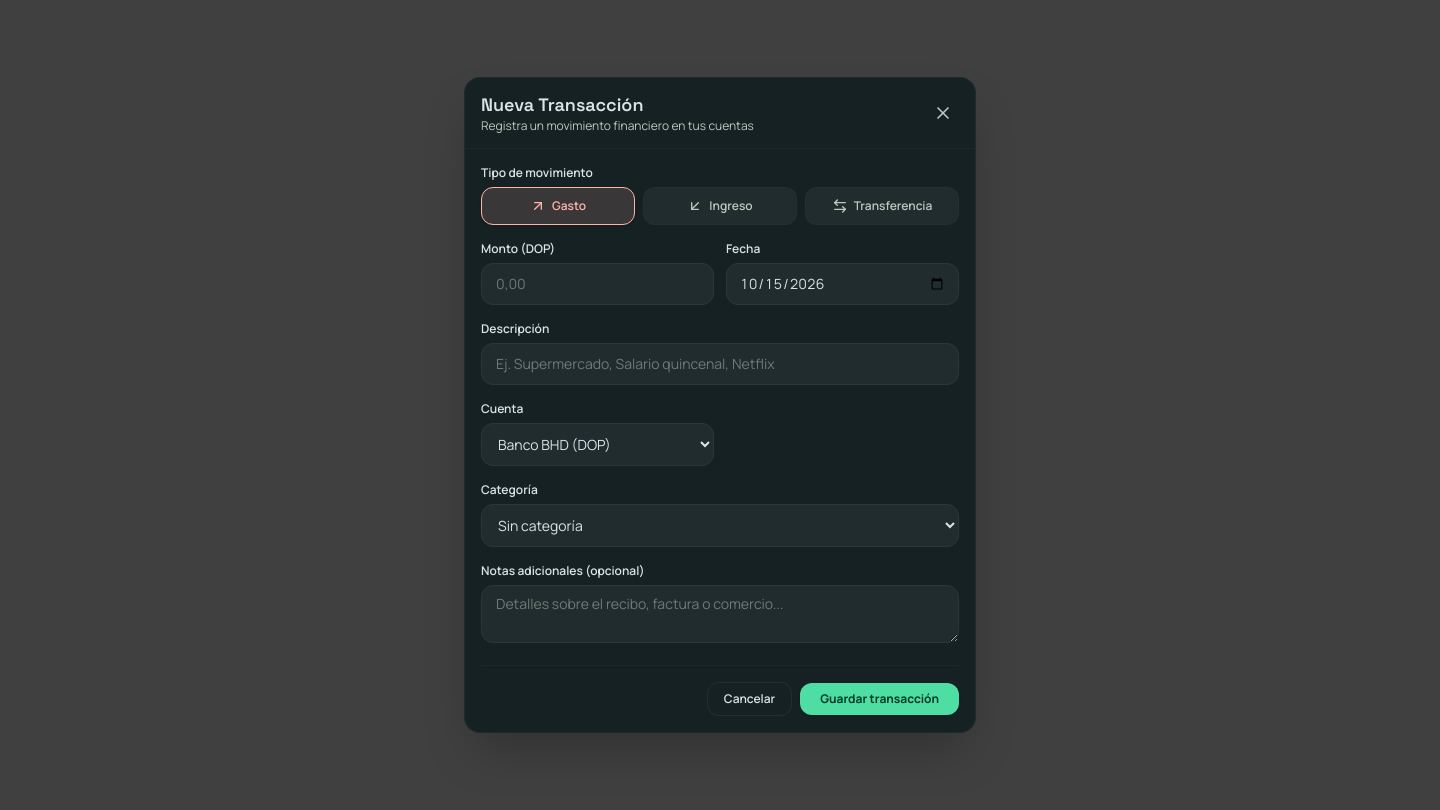
TransactionFormModal › validates that transfer origin and destination are different
The image size is (1440, 810).
Select "transfer" in the dropdown labelled "Tipo de movimiento" at (537, 172), box [481,164,593,181]
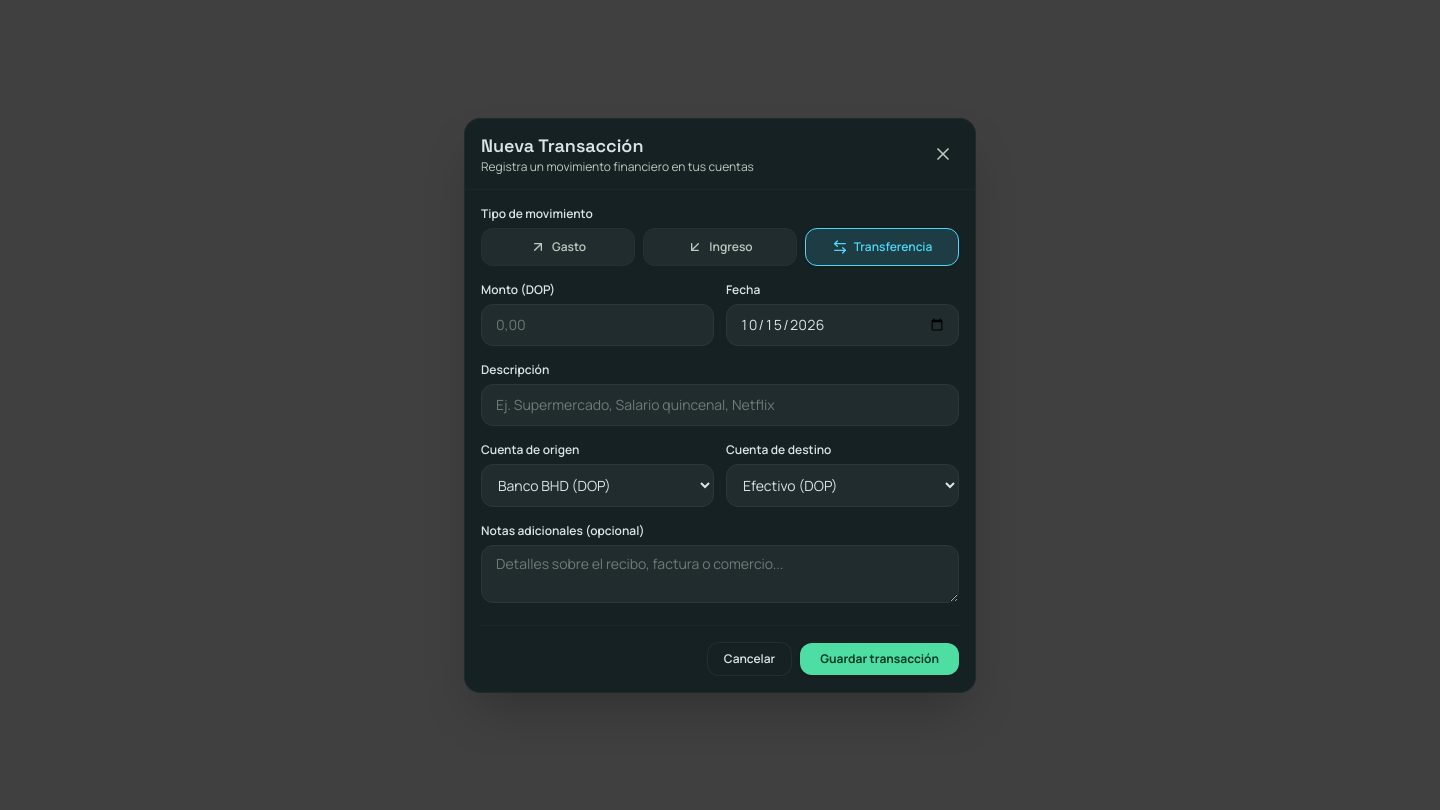
# Origin and destination set to same account
Select "Banco BHD (DOP)" in the dropdown labelled "Cuenta de origen" at (598, 485), box [481,464,714,506]
Select "Banco BHD (DOP)" in the dropdown labelled "Cuenta de destino" at (842, 485), box [726,464,959,506]
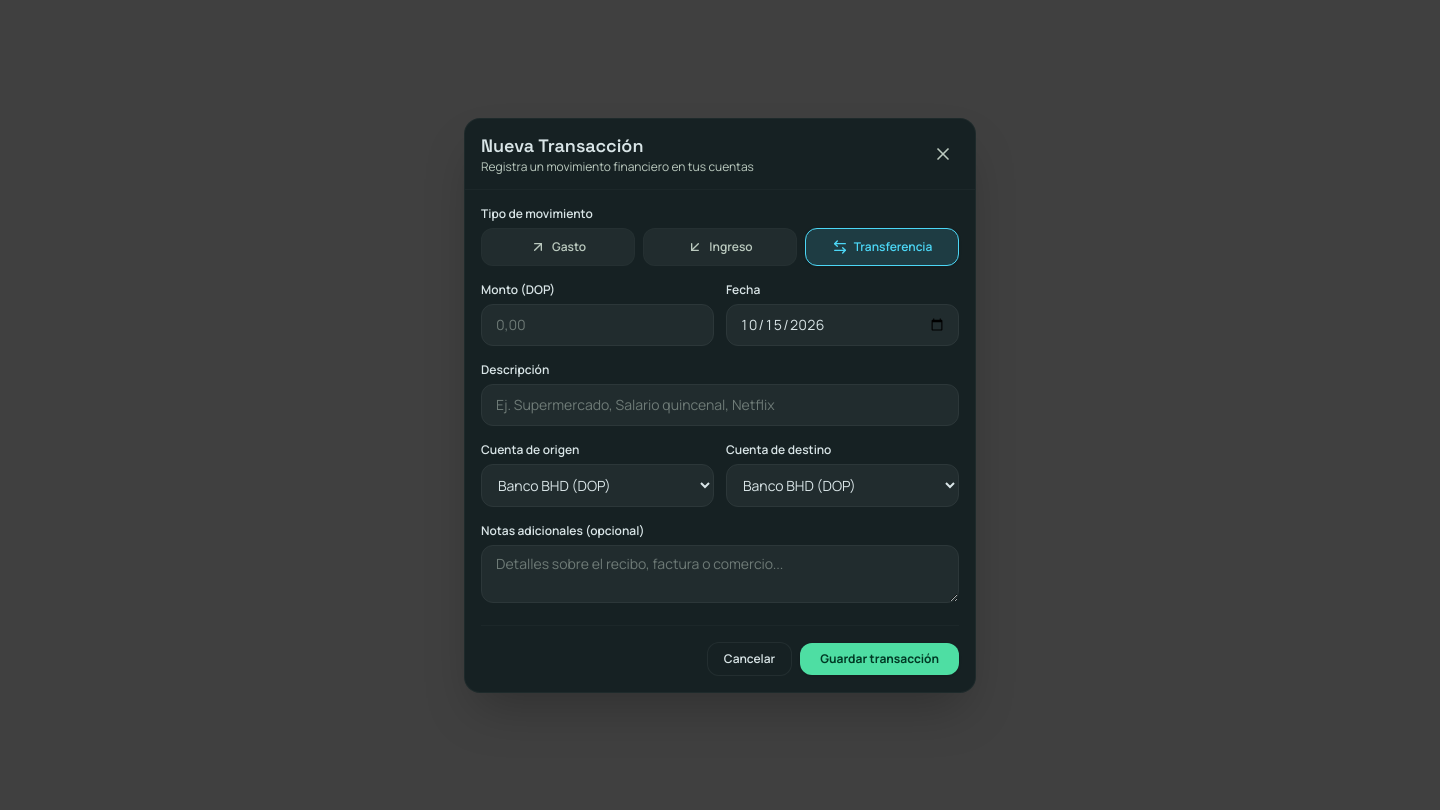
Type "500" into the field labelled "Monto (DOP)" at (598, 324), box [481,304,714,346]
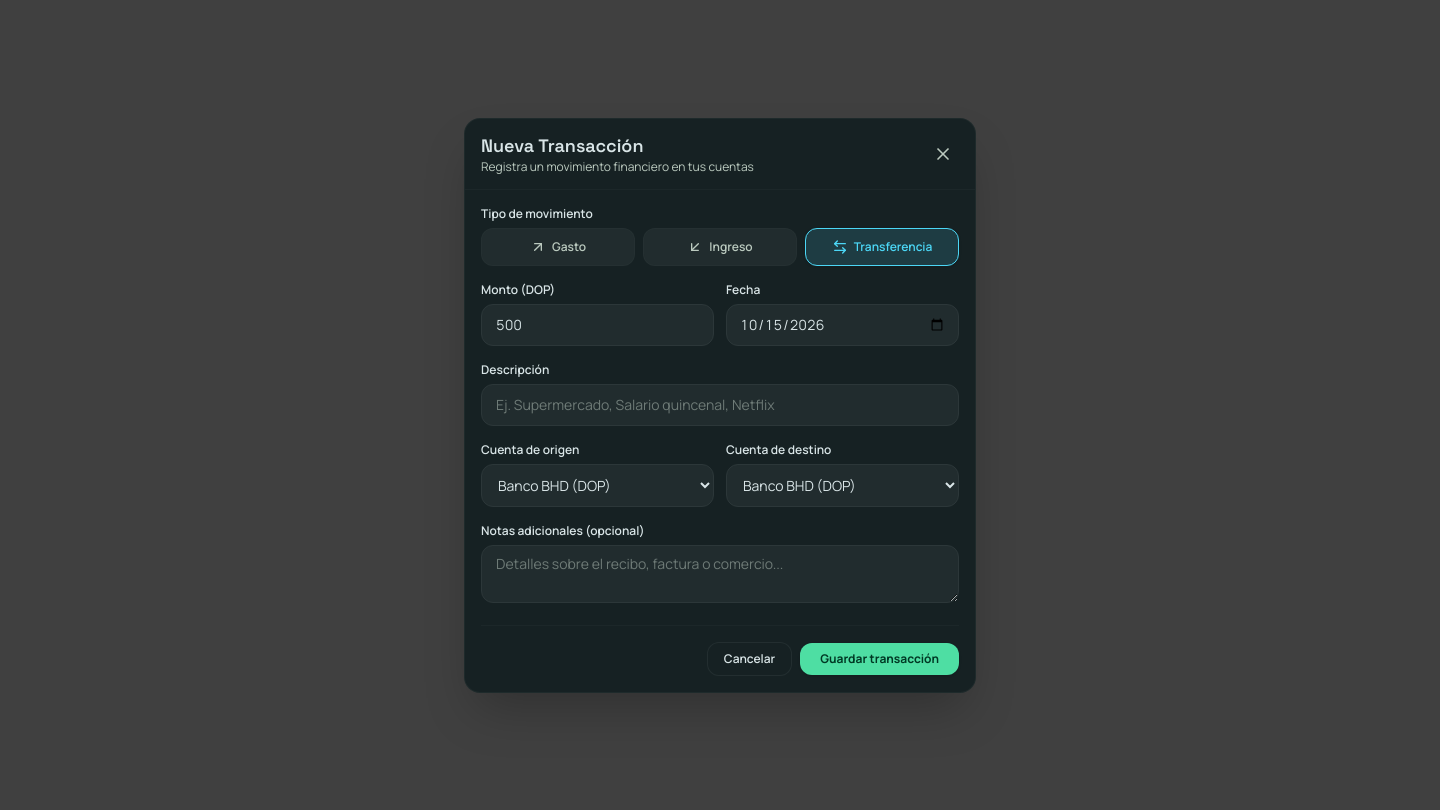
Type "Traspaso" into the field labelled "Descripción" at (720, 404), box [481,384,959,426]
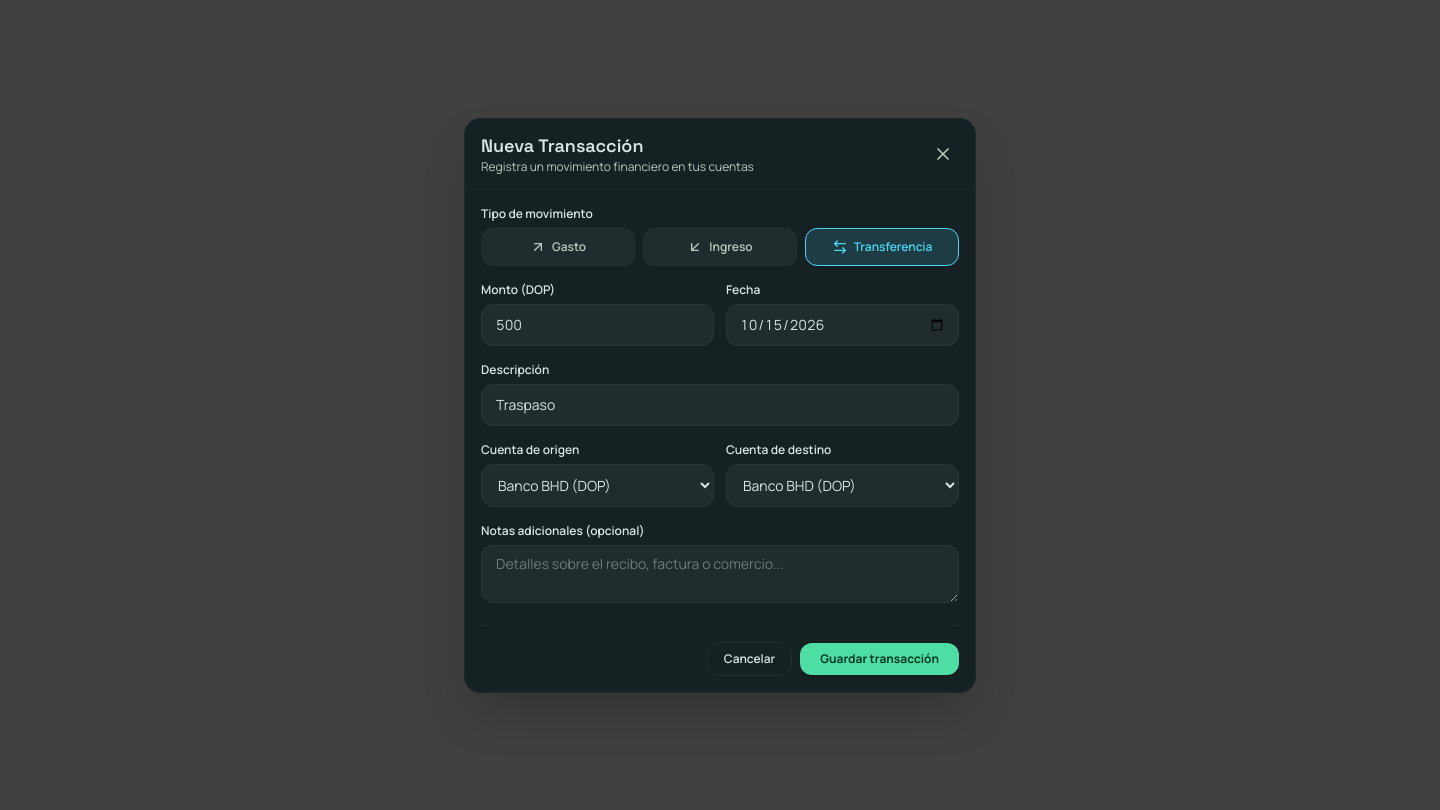
Click the button "Guardar transacción" at (880, 658), box [800,642,959,674]
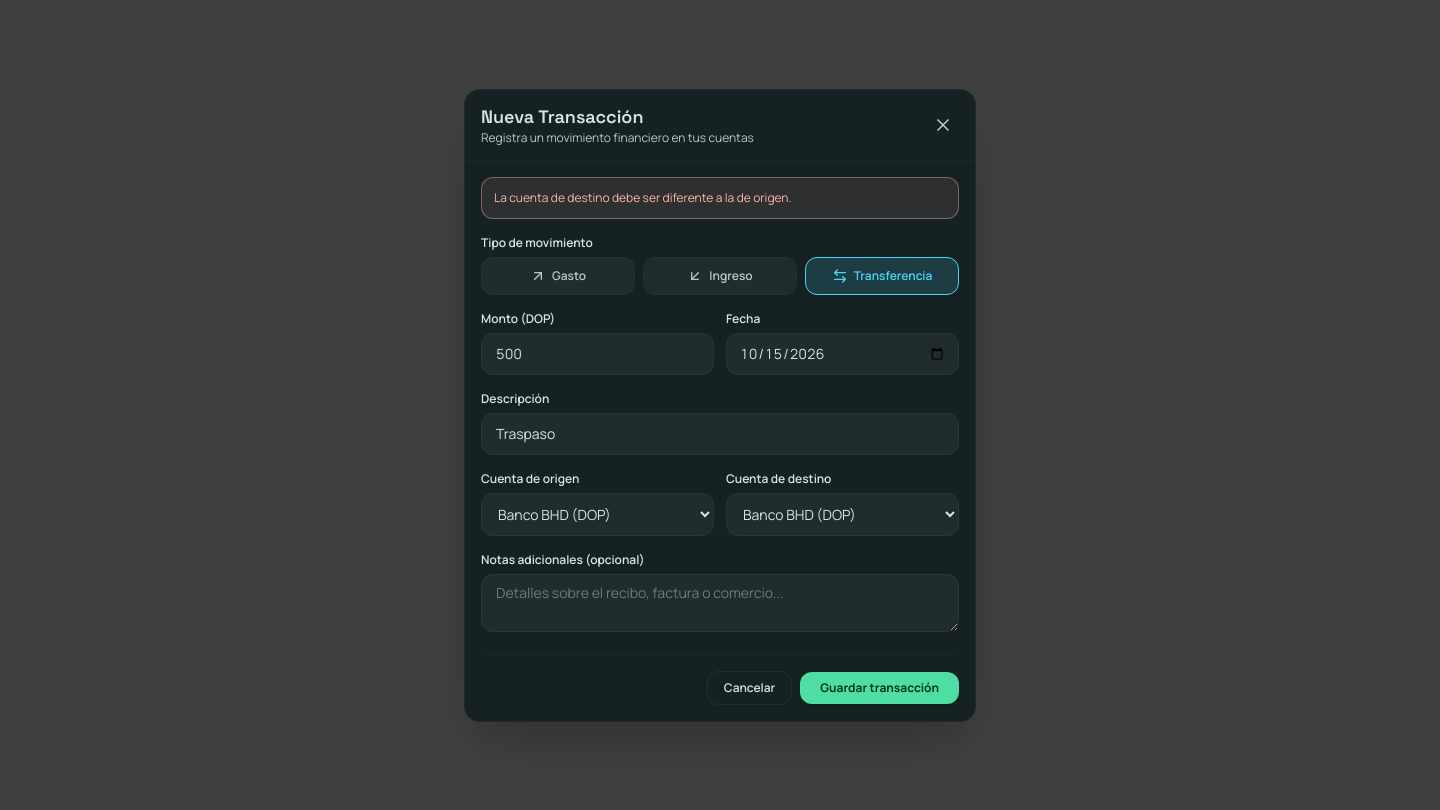
expect the text "La cuenta de destino debe ser diferente a la de origen." is shown: met, box [481,176,959,218]
